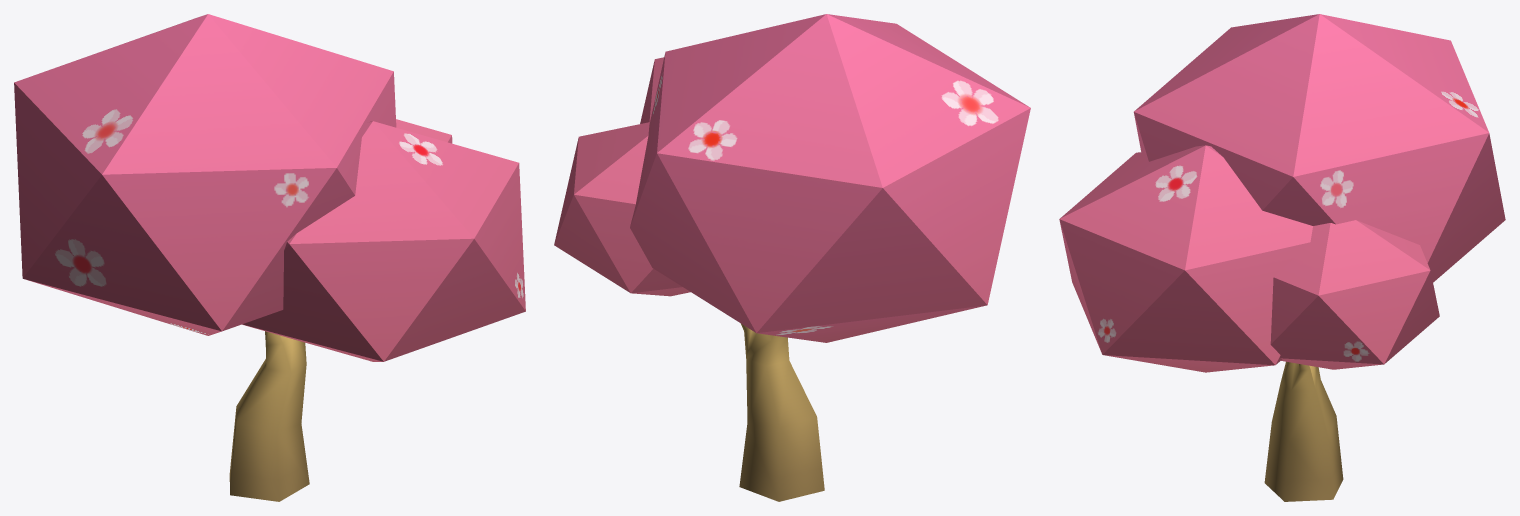
The model's file is Pohon_2.fbx.
3 views of the same model, side by side, from view 1: azimuth 30°, elevation 25°; view 2: azimuth 150°, elevation 25°; view 3: azimuth 270°, elevation 25° (orthographic). The views are drawn at different scales.
Visible parts, largest first — view 1: Pohon_2.002; view 2: Pohon_2.002; view 3: Pohon_2.002.
Boxes of the visible parts, x1,y1,x2,y2 form: Pohon_2.002: [14, 14, 525, 501]; Pohon_2.002: [554, 14, 1030, 501]; Pohon_2.002: [1059, 14, 1505, 501].
Size of the model in its own units: 900 by 989 by 889.
